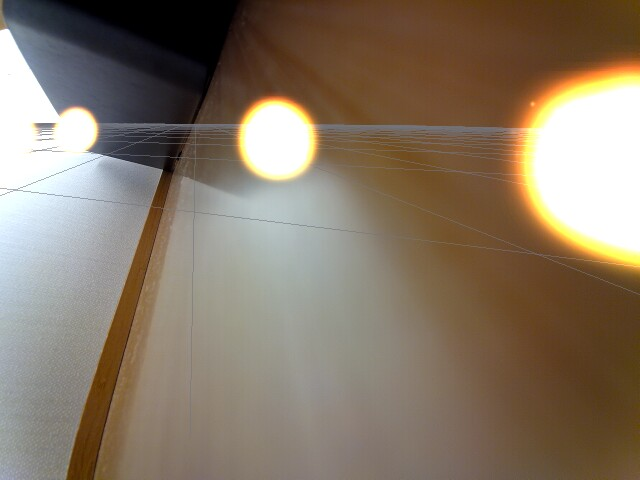firebig: (502, 51, 640, 274)
